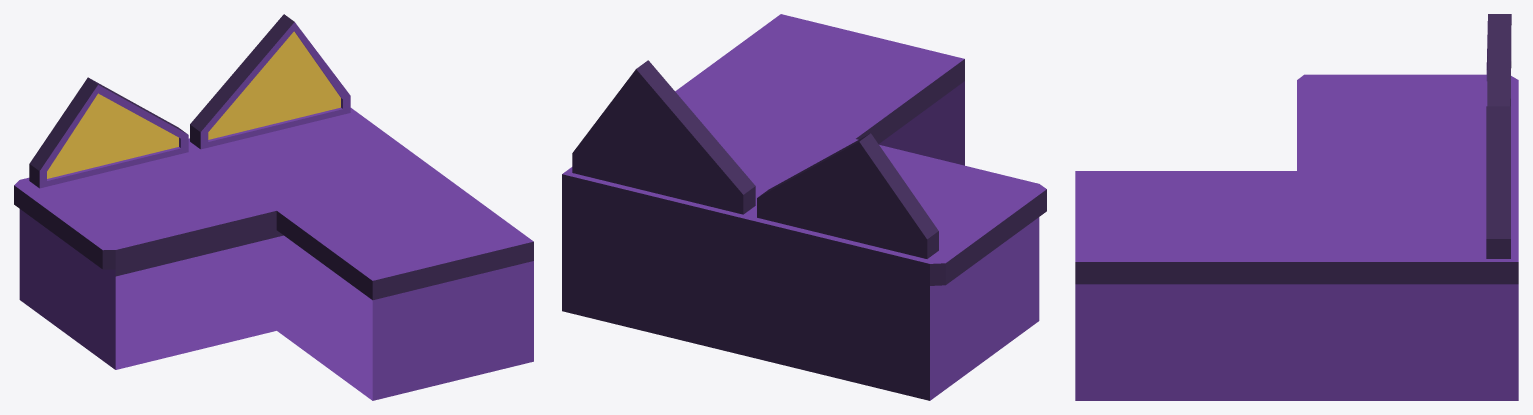
File: EscritorioL_WorkRoom.glb
3 views of the same model, side by side, from view 1: azimuth 30°, elevation 25°; view 2: azimuth 150°, elevation 25°; view 3: azimuth 270°, elevation 25° (orthographic). The views are drawn at different scales.
Parts seen in each view (by area): view 1: L_Deckstop.001; view 2: L_Deckstop.001; view 3: L_Deckstop.001.
Boxes of the visible parts, x1,y1,x2,y2 form: L_Deckstop.001: [14, 14, 533, 400]; L_Deckstop.001: [562, 14, 1046, 400]; L_Deckstop.001: [1075, 14, 1518, 400].
Bounding box in the file's own units: 1.5 × 0.97 × 1.5.
Materials: 1 (1 with a texture image).
